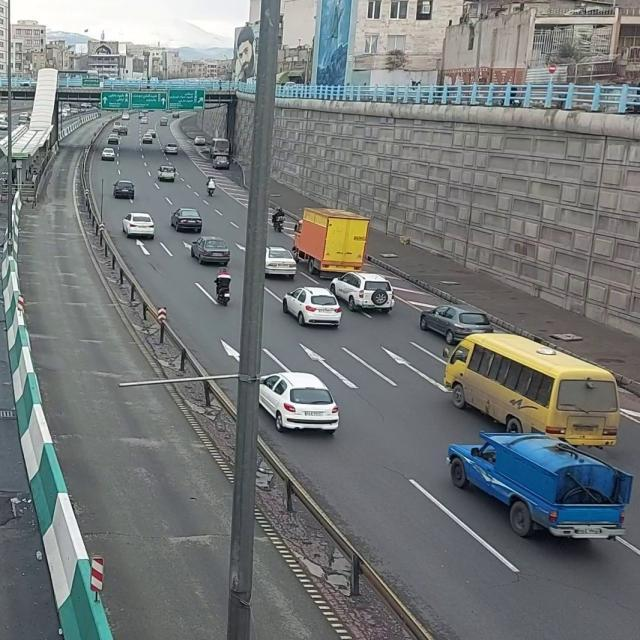Car: (261, 371, 342, 434), (330, 270, 396, 314), (282, 286, 344, 328), (190, 236, 232, 266), (121, 212, 156, 241), (169, 207, 205, 234)
Motorcycle: (214, 265, 233, 309), (271, 206, 287, 234)
Pickup: (445, 428, 633, 544)
Truck: (291, 207, 367, 273)
